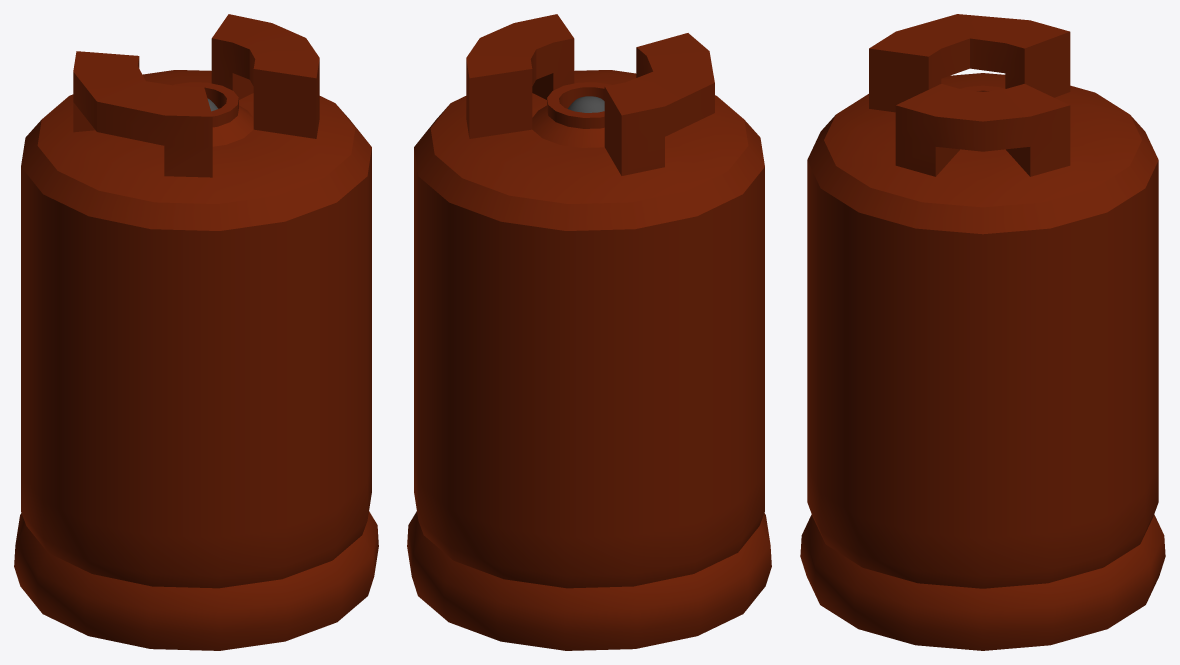
The model's file is gas14.glb.
3 views of the same model, side by side, from view 1: azimuth 30°, elevation 25°; view 2: azimuth 150°, elevation 25°; view 3: azimuth 270°, elevation 25° (orthographic).
Parts seen in each view (by area): view 1: Gas14; view 2: Gas14; view 3: Gas14.
Boxes of the visible parts, <box> form: Gas14: <box>14,14,378,650</box>; Gas14: <box>407,14,771,650</box>; Gas14: <box>800,14,1165,650</box>.
Bounding box in the file's own units: 1.7 × 2.63 × 1.7.
